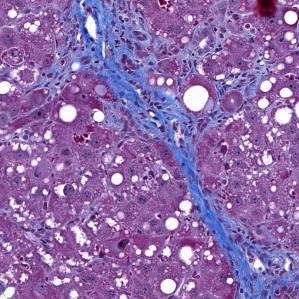fibrosis: (79, 8, 166, 92), (211, 220, 289, 293), (142, 101, 209, 158)
